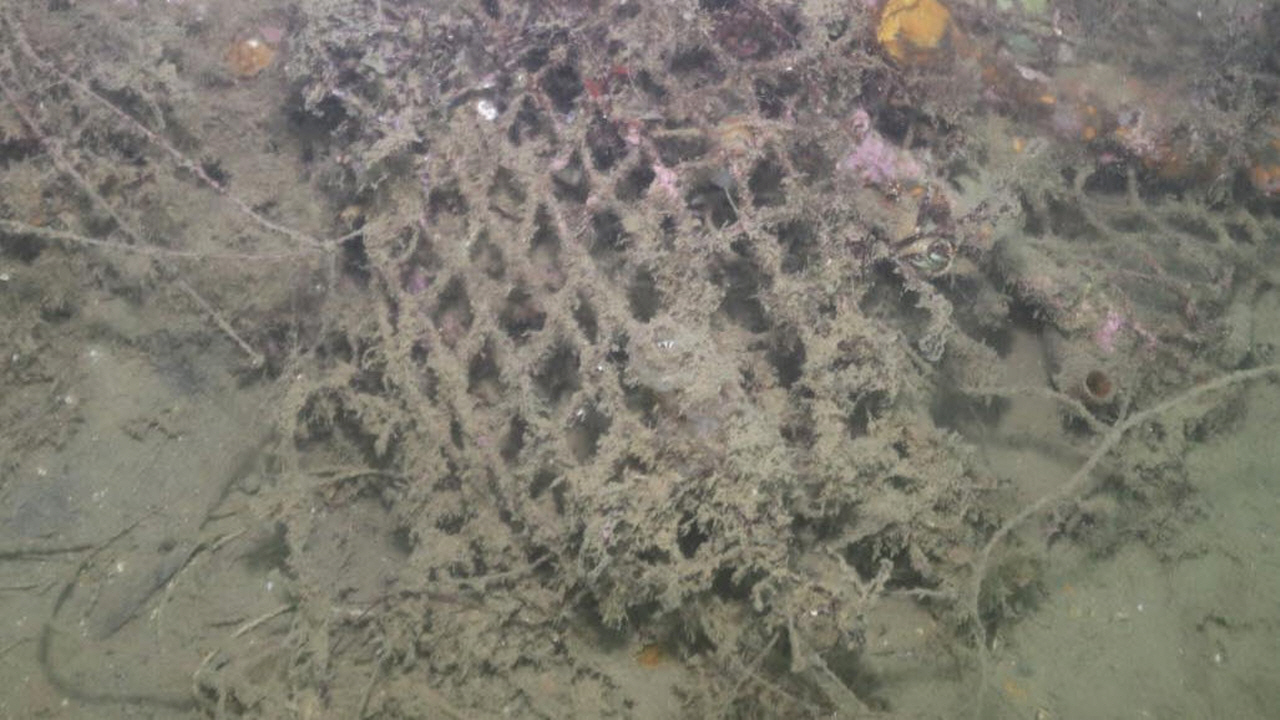fish net: (361, 0, 1280, 602)
